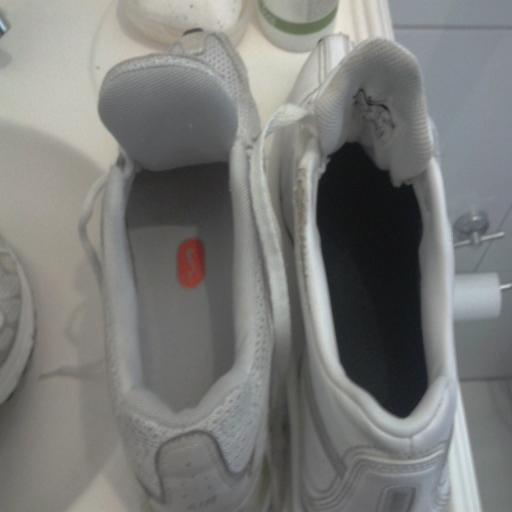shoe: (80, 32, 286, 512), (269, 35, 457, 512)
